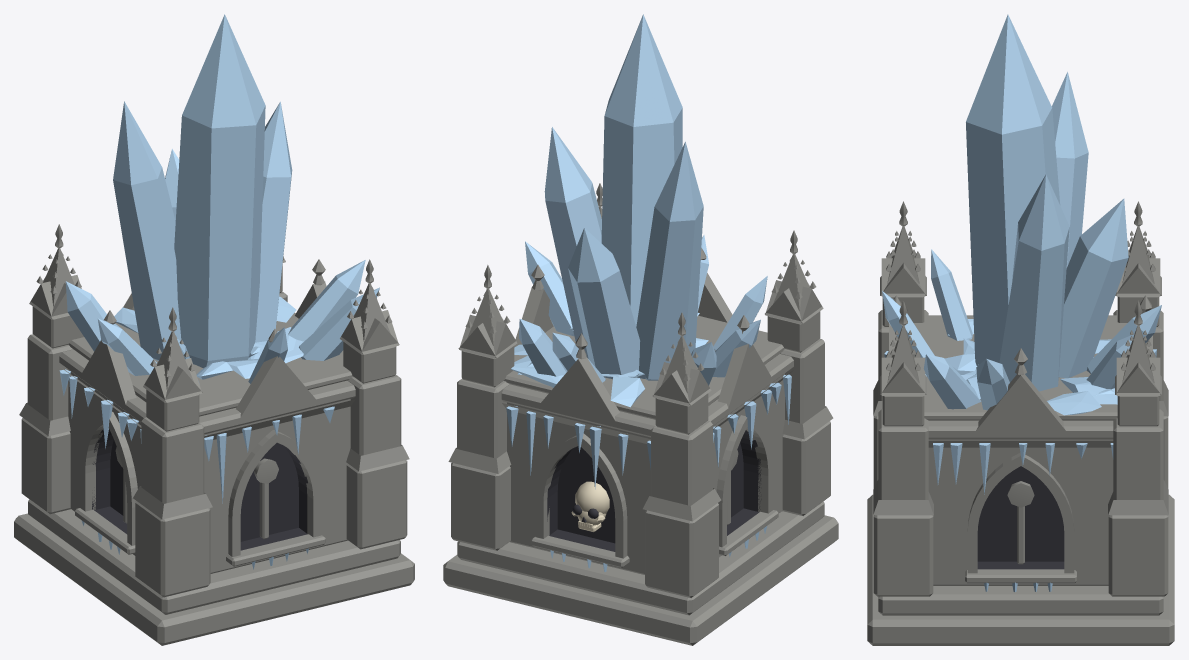
The model's file is tower_frost_1.glb.
3 renders of one model, left to right at view 1: azimuth 30°, elevation 25°; view 2: azimuth 150°, elevation 25°; view 3: azimuth 270°, elevation 25°, orthographic. The views are drawn at different scales.
Parts seen in each view (by area): view 1: tower; view 2: tower; view 3: tower.
Part boxes in pixels (x1,y1,x2,y2): tower: (14, 14, 414, 645); tower: (443, 14, 838, 645); tower: (867, 14, 1174, 645).
Size of the model in its own units: 1.74 by 3.49 by 1.7.
